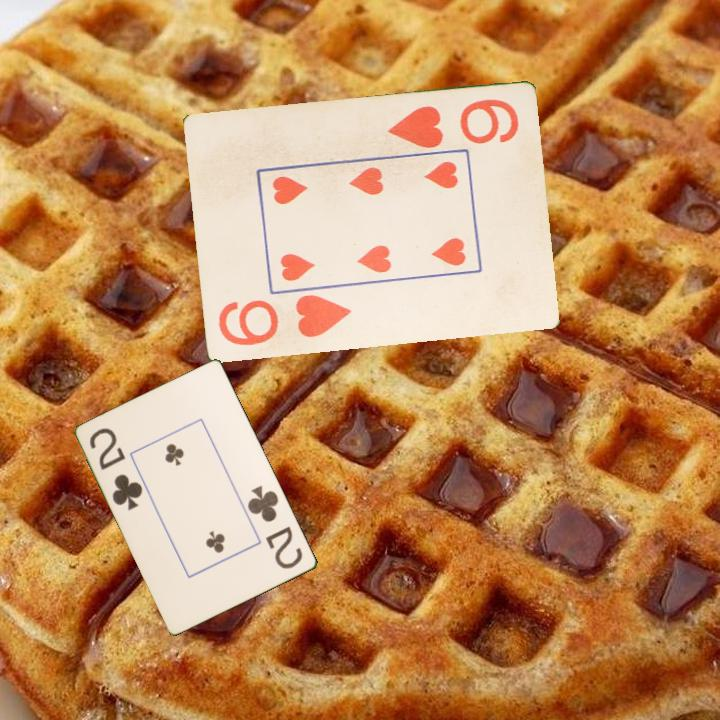2c: (244, 482, 306, 572), (86, 424, 146, 513)
6h: (214, 292, 354, 351), (384, 95, 521, 152)
